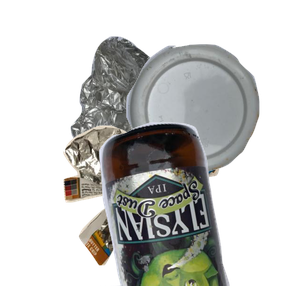glass: (97, 120, 300, 300)
metal: (68, 34, 300, 214)
plastic: (124, 42, 300, 210)
trash: (61, 123, 273, 300)
